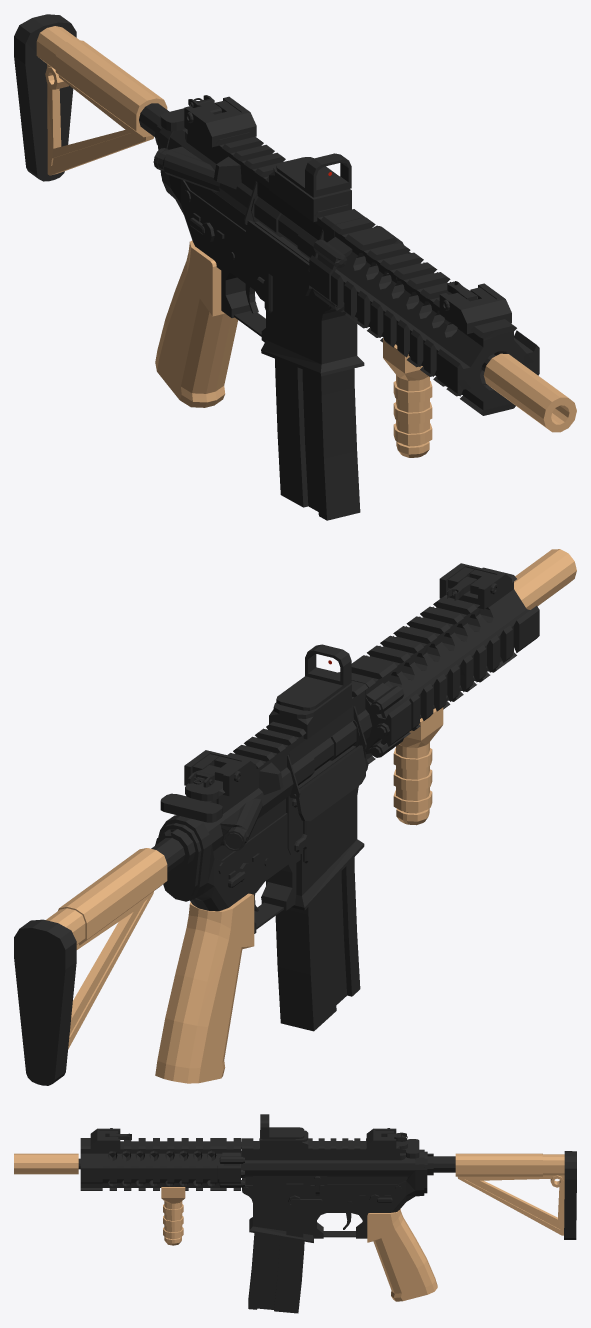
Rendered from Supressed_M4.glb.
3 views of the same model, one above another, from view 1: azimuth 30°, elevation 25°; view 2: azimuth 150°, elevation 25°; view 3: azimuth 270°, elevation 25° (orthographic). The views are drawn at different scales.
Parts seen in each view (by area): view 1: Body.002, Handguard.002, Stock.002, Mag.002, Cube, Barrel.002, Grip.001, RearSight.004, RearSight.005; view 2: Body.002, Stock.002, Handguard.002, Mag.002, Cube, Grip.001, Barrel.002, RearSight.004, RearSight.005; view 3: Body.002, Handguard.002, Stock.002, Mag.002, Barrel.002, Cube, Grip.001, RearSight.004, RearSight.005.
Boxes of the visible parts, bbox=[...] form: Body.002: bbox=[139, 103, 364, 407]; Handguard.002: bbox=[308, 217, 539, 415]; Stock.002: bbox=[14, 14, 167, 181]; Mag.002: bbox=[275, 358, 360, 520]; Cube: bbox=[269, 153, 351, 222]; Barrel.002: bbox=[481, 353, 576, 432]; Grip.001: bbox=[383, 338, 432, 457]; RearSight.004: bbox=[184, 95, 256, 147]; RearSight.005: bbox=[439, 281, 511, 334]; Body.002: bbox=[151, 680, 372, 1083]; Stock.002: bbox=[14, 848, 167, 1085]; Handguard.002: bbox=[338, 567, 539, 764]; Mag.002: bbox=[275, 857, 360, 1031]; Cube: bbox=[269, 644, 351, 739]; Grip.001: bbox=[393, 707, 443, 825]; Barrel.002: bbox=[514, 549, 576, 609]; RearSight.004: bbox=[184, 750, 256, 795]; RearSight.005: bbox=[439, 563, 511, 609]; Body.002: bbox=[241, 1138, 455, 1301]; Handguard.002: bbox=[80, 1138, 244, 1190]; Stock.002: bbox=[455, 1151, 576, 1239]; Mag.002: bbox=[248, 1233, 304, 1313]; Barrel.002: bbox=[14, 1153, 80, 1174]; Cube: bbox=[260, 1114, 308, 1152]; Grip.001: bbox=[161, 1187, 185, 1245]; RearSight.004: bbox=[366, 1128, 407, 1151]; RearSight.005: bbox=[90, 1128, 131, 1151].
Size of the model in its own units: 0.9794 by 3.82 by 10.18.
